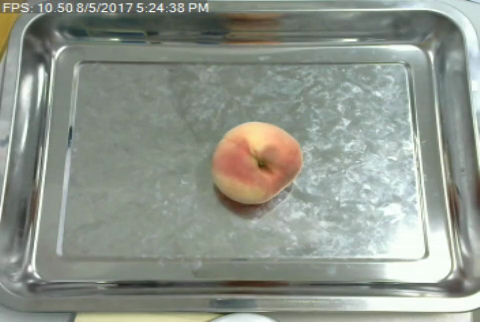Peach: (210, 121, 302, 204)
